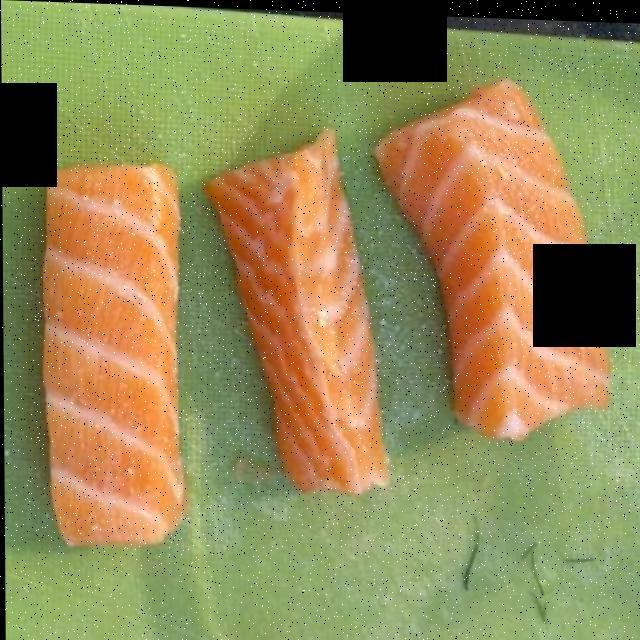salmon: (32, 56, 617, 560)
